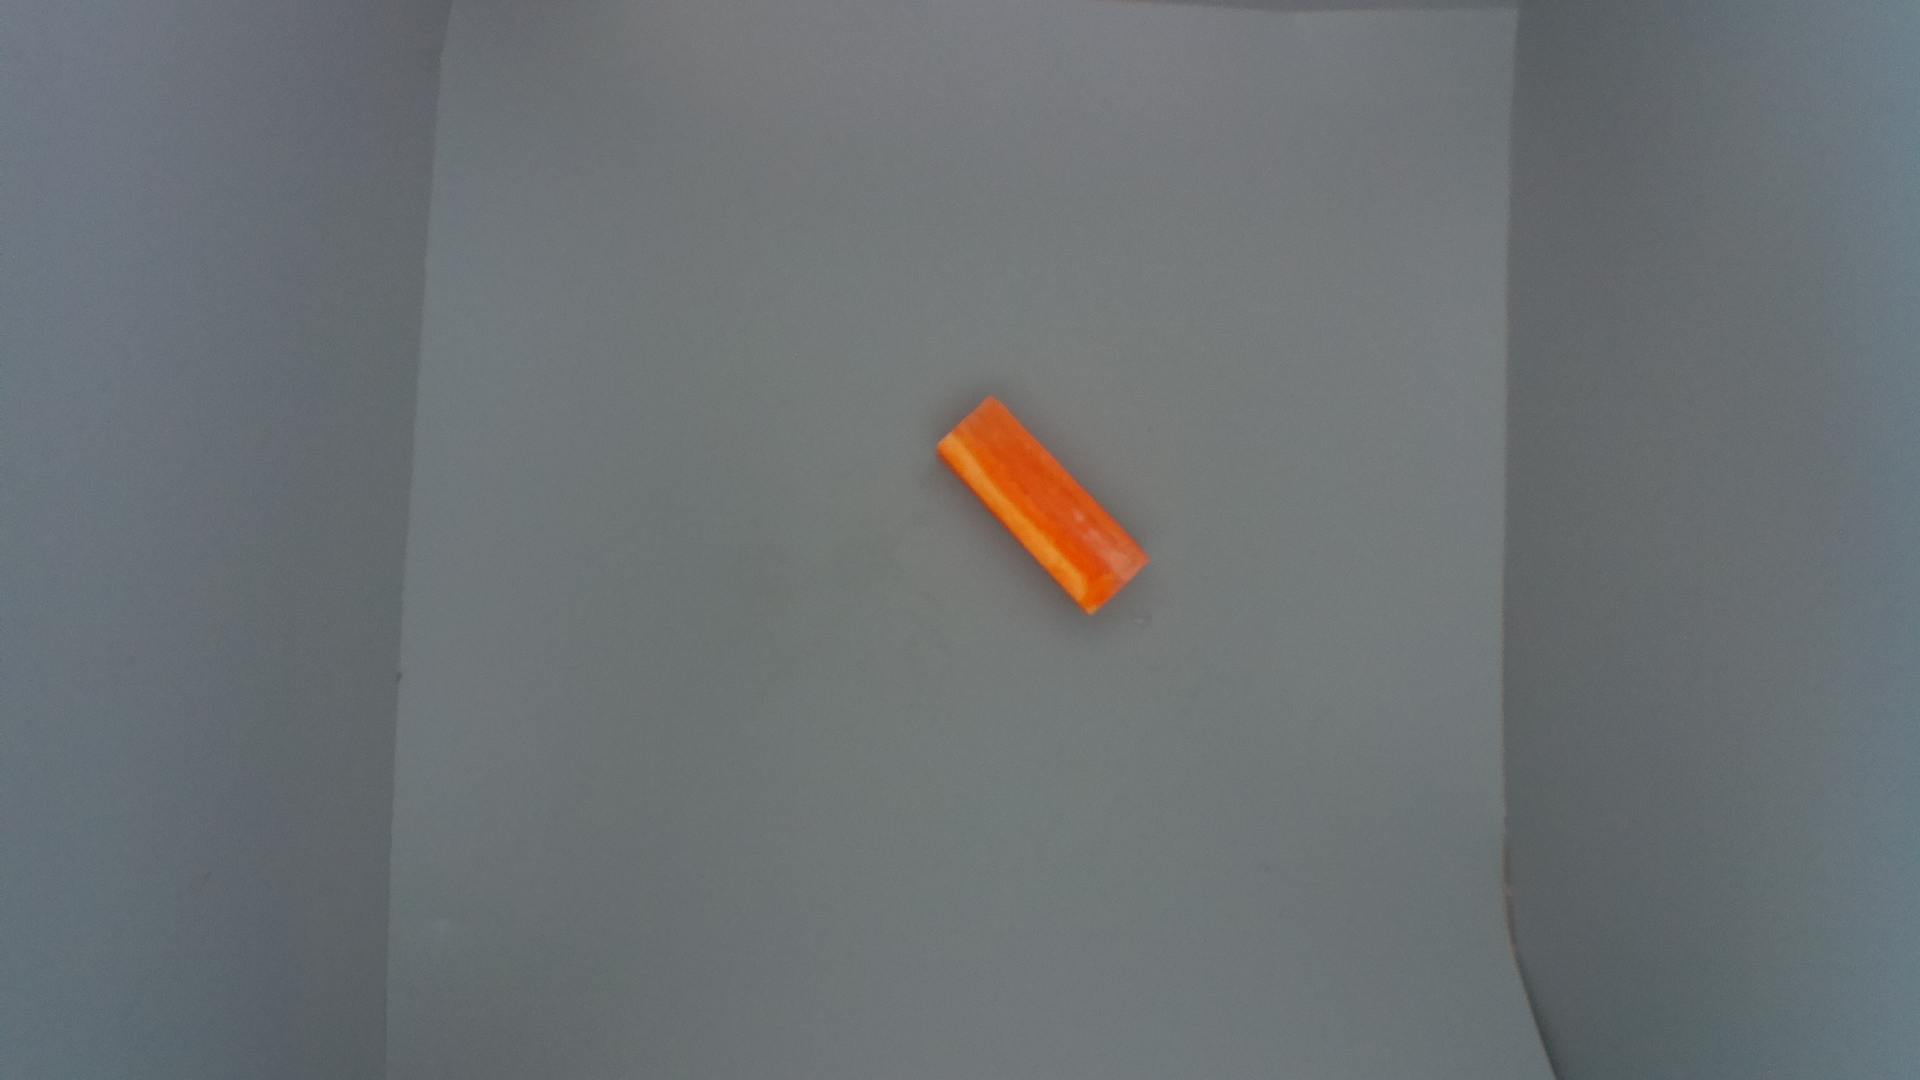carrot: (936, 396, 1156, 618)
